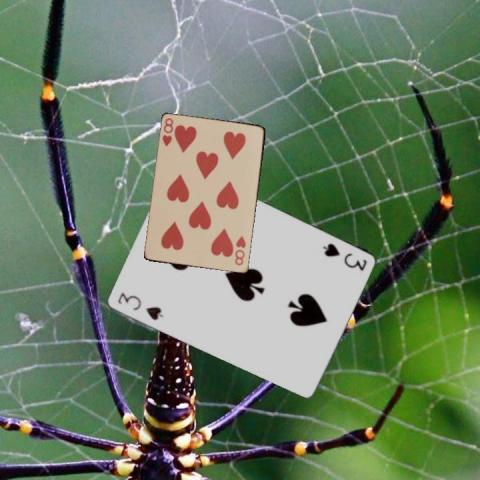3s: (114, 290, 165, 322), (319, 240, 368, 273)
8h: (159, 115, 175, 149), (232, 234, 247, 268)
